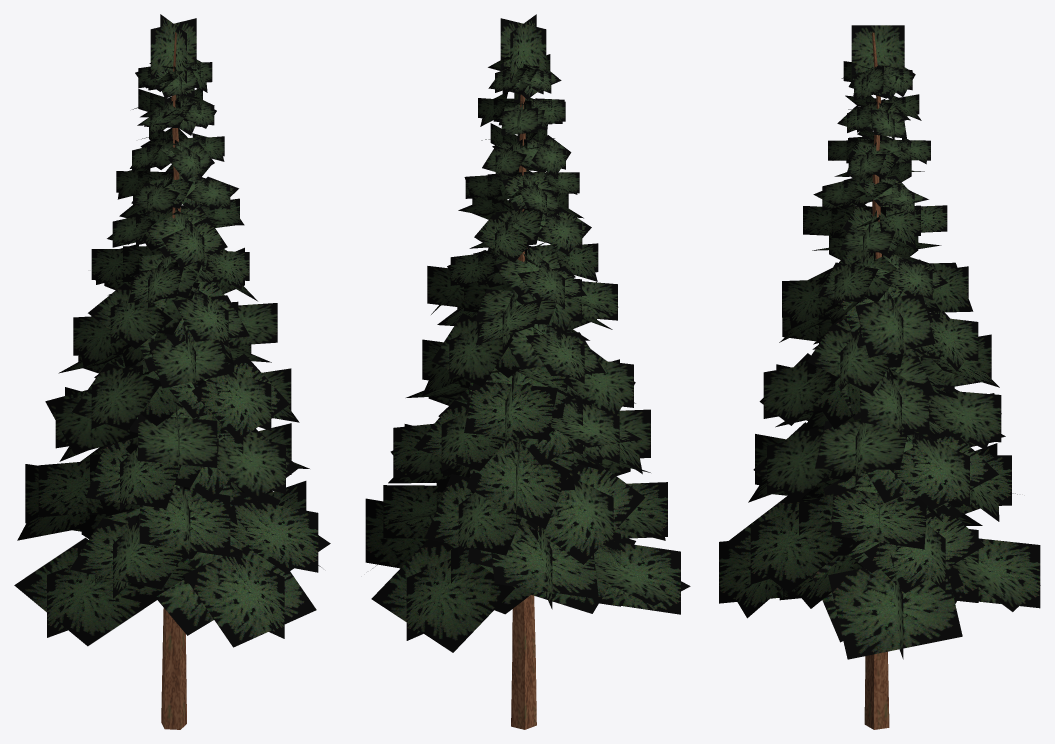
File: Pine_3_LOD1.gltf
The picture shows the model from 3 angles, left to right: view 1: azimuth 30°, elevation 25°; view 2: azimuth 150°, elevation 25°; view 3: azimuth 270°, elevation 25°; orthographic projection.
Parts seen in each view (by area): view 1: Pine_3_LOD1; view 2: Pine_3_LOD1; view 3: Pine_3_LOD1.
Boxes of the visible parts, left/top/right/bottom form: Pine_3_LOD1: left=14, top=14, right=330, bottom=729; Pine_3_LOD1: left=365, top=14, right=690, bottom=729; Pine_3_LOD1: left=719, top=25, right=1040, bottom=729.
Size of the model in its own units: 8.74 by 20.19 by 8.42.
Materials: 2 (2 with a texture image).
